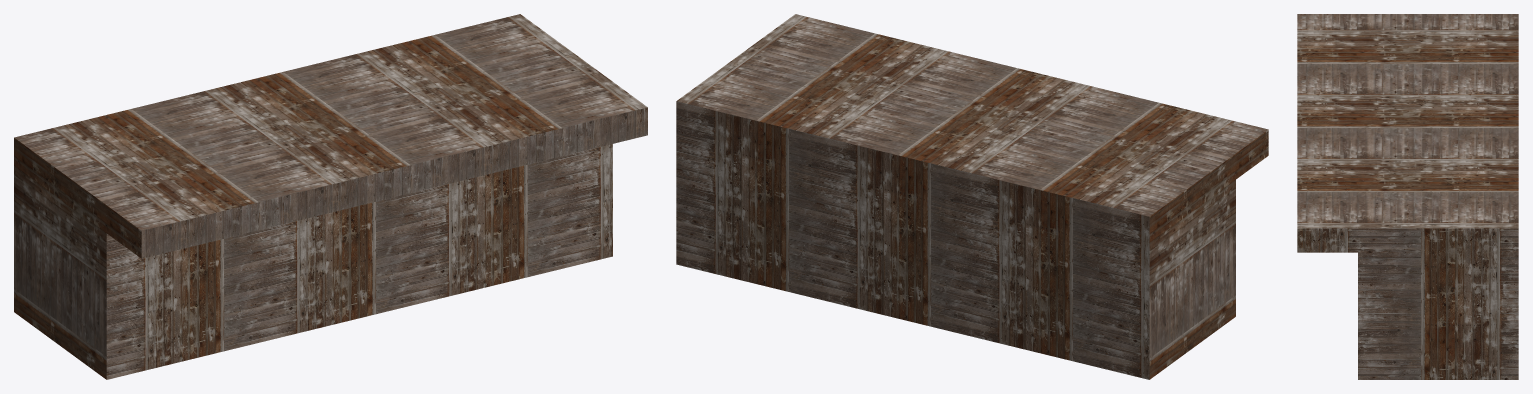
The model's file is OU_AR_Barn_Table_01_D.fbx.
3 views of the same model, side by side, from view 1: azimuth 30°, elevation 25°; view 2: azimuth 150°, elevation 25°; view 3: azimuth 270°, elevation 25° (orthographic). The views are drawn at different scales.
Visible parts, largest first — view 1: Barn_Table; view 2: Barn_Table; view 3: Barn_Table.
Boxes of the visible parts, x1,y1,x2,y2 form: Barn_Table: (14,14,647,379); Barn_Table: (676,14,1268,379); Barn_Table: (1297,14,1518,379).
Size of the model in its own units: 296 by 97.41 by 129.
Materials: 1 (1 with a texture image).
